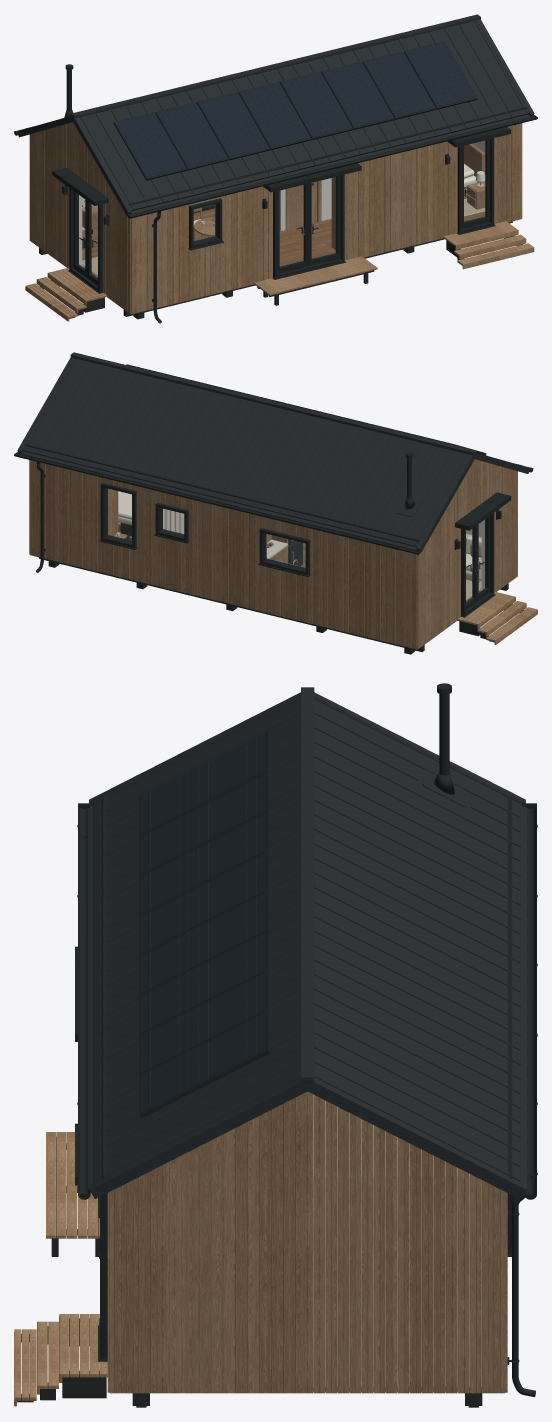
File: veyra-configurator.glb
The picture shows the model from 3 angles, top to bottom: view 1: azimuth 30°, elevation 25°; view 2: azimuth 150°, elevation 25°; view 3: azimuth 270°, elevation 25°; orthographic projection. The views are drawn at different scales.
Parts seen in each view (by area): view 1: Cladding_Front, Roof_Slope_-1, Cladding_LeftGable, Roof_RidgeCap, BedroomSteps, Solar_4_Cells, Solar_5_Cells, Solar_0_Cells, Solar_3_Cells, Solar_6_Cells, Solar_7_Cells, Solar_1_Cells (+38 smaller); view 2: Roof_Slope_1, Cladding_Rear, Cladding_LeftGable, Roof_Seam_1, Roof_RidgeCap, GableSteps, Gutter_1, EaveDrip_Apron_1, Eave_Fascia_1, Base, LeftGableDoubleDoors_Canopy, Roof_Barge_1_-5.77 (+9 smaller); view 3: Cladding_RightGable, Roof_Slope_1, Roof_Slope_-1, Roof_Seam_1, Roof_Seam_-1, BedroomSteps, Roof_RidgeCap, Solar_1_Cells, Solar_3_Cells, Solar_6_Cells, Solar_4_Cells, Solar_5_Cells (+20 smaller).
Part boxes in pixels (x1,y1,x2,y2): Cladding_Front: (131,123,521,314); Roof_Slope_-1: (79,20,529,210); Cladding_LeftGable: (29,122,130,313); Roof_RidgeCap: (71,14,480,118); BedroomSteps: (443,221,534,269); Solar_4_Cells: (281,72,351,137); Solar_5_Cells: (323,62,393,127); Solar_0_Cells: (115,113,185,178); Solar_3_Cells: (240,82,310,147); Solar_6_Cells: (364,52,434,117); Solar_7_Cells: (406,42,476,107); Solar_1_Cells: (157,103,227,167); Roof_Slope_1: (22,358,468,546); Cladding_Rear: (30,460,417,649); Cladding_LeftGable: (417,459,517,649); Roof_Seam_1: (24,358,467,544); Roof_RidgeCap: (70,352,476,455); GableSteps: (457,591,537,644); Gutter_1: (14,452,419,554); EaveDrip_Apron_1: (22,451,415,549); Eave_Fascia_1: (25,444,419,541); Base: (39,557,508,654); LeftGableDoubleDoors_Canopy: (455,492,511,530); Roof_Barge_1_-5.77: (416,454,476,552); Cladding_RightGable: (109,1091,505,1393); Roof_Slope_1: (314,697,521,1182); Roof_Slope_-1: (93,697,300,1183); Roof_Seam_1: (314,697,520,1181); Roof_Seam_-1: (94,697,300,1181); BedroomSteps: (14,1314,107,1406); Roof_RidgeCap: (301,687,314,1082); Solar_1_Cells: (141,773,265,874); Solar_3_Cells: (141,853,265,953); Solar_6_Cells: (141,972,265,1073); Solar_4_Cells: (141,892,265,993); Solar_5_Cells: (141,932,265,1033).
Size of the model in its own units: 12.65 by 5.29 by 6.62.
Materials: 34 (5 with a texture image).
